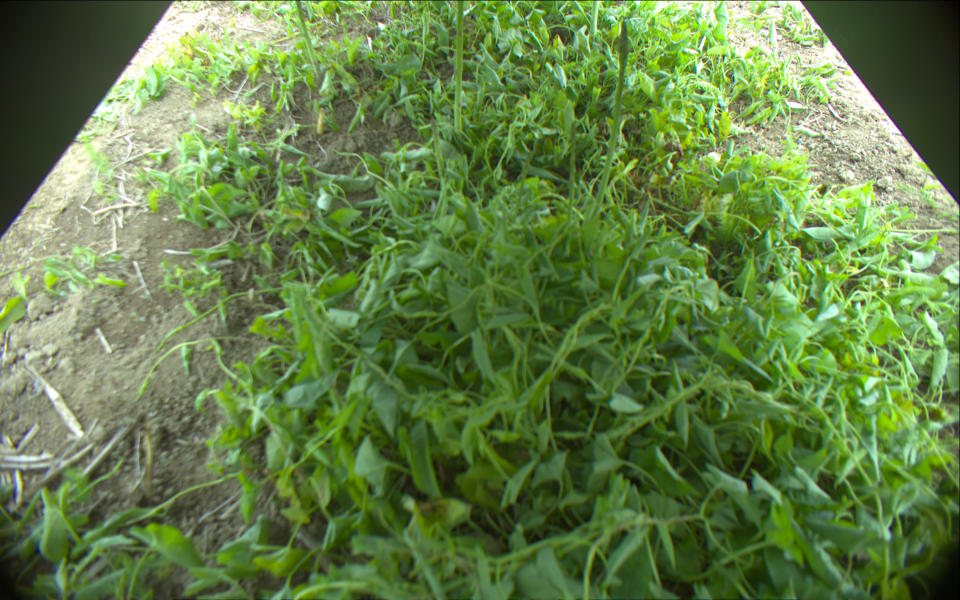aspa: (591, 18, 628, 214), (295, 1, 323, 82), (430, 116, 449, 182), (454, 1, 463, 134)
